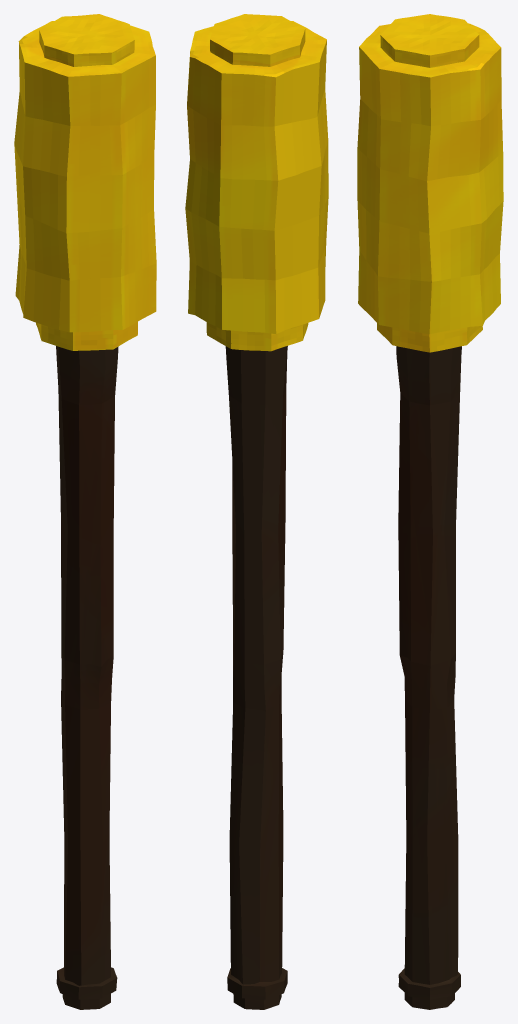
File: torch.obj
3 views of the same model, side by side, from view 1: azimuth 30°, elevation 25°; view 2: azimuth 150°, elevation 25°; view 3: azimuth 270°, elevation 25° (orthographic).
Parts seen in each view (by area): view 1: Cylinder.001_Cylinder.004, Cylinder_Cylinder.003; view 2: Cylinder.001_Cylinder.004, Cylinder_Cylinder.003; view 3: Cylinder.001_Cylinder.004, Cylinder_Cylinder.003.
Boxes of the visible parts, x1,y1,x2,y2 form: Cylinder.001_Cylinder.004: (14,14,156,350); Cylinder_Cylinder.003: (56,346,118,1009); Cylinder.001_Cylinder.004: (185,14,328,351); Cylinder_Cylinder.003: (225,346,287,1009); Cylinder.001_Cylinder.004: (357,14,503,352); Cylinder_Cylinder.003: (396,346,461,1009).
Bounding box in the file's own units: 0.4531 × 3.26 × 0.4464.
